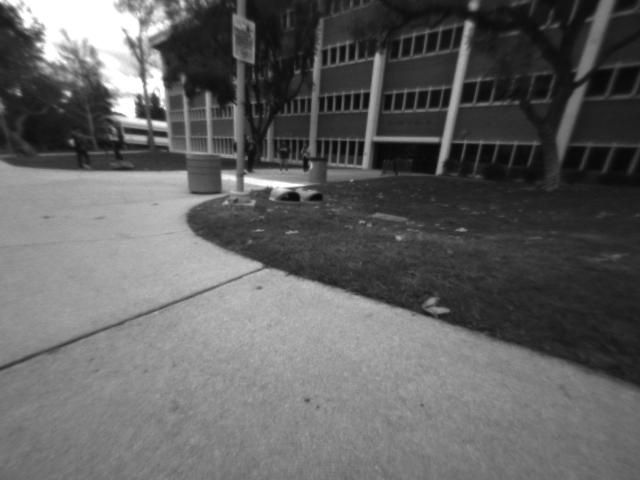trashcan: (186, 152, 229, 195), (307, 156, 327, 185)
